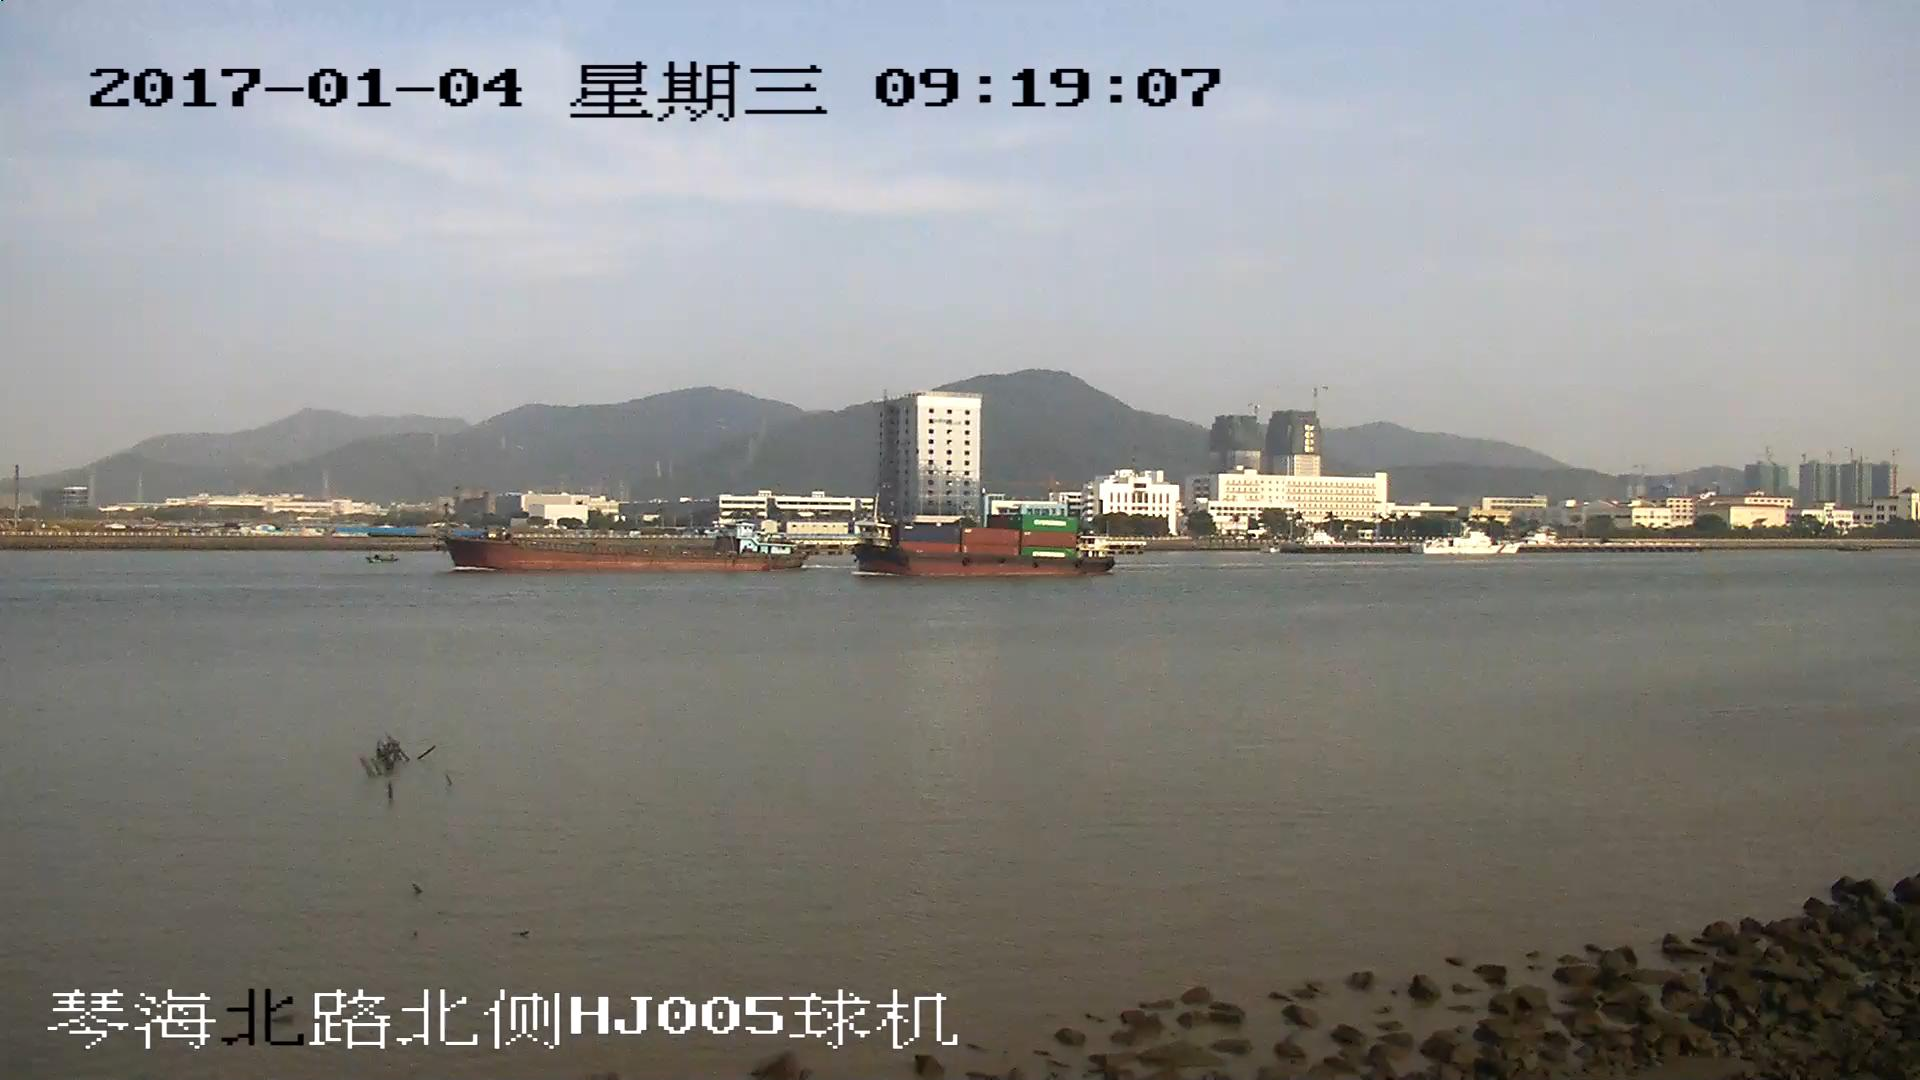bulk cargo carrier: (437, 519, 803, 570)
container ship: (854, 512, 1114, 575)
